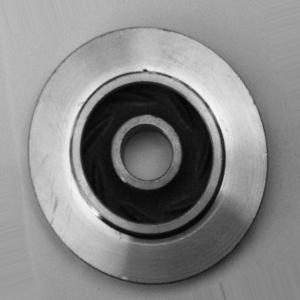crack: (135, 65, 158, 79)
scratch: (70, 171, 107, 234)
unpolished_casting: (27, 26, 273, 287)
